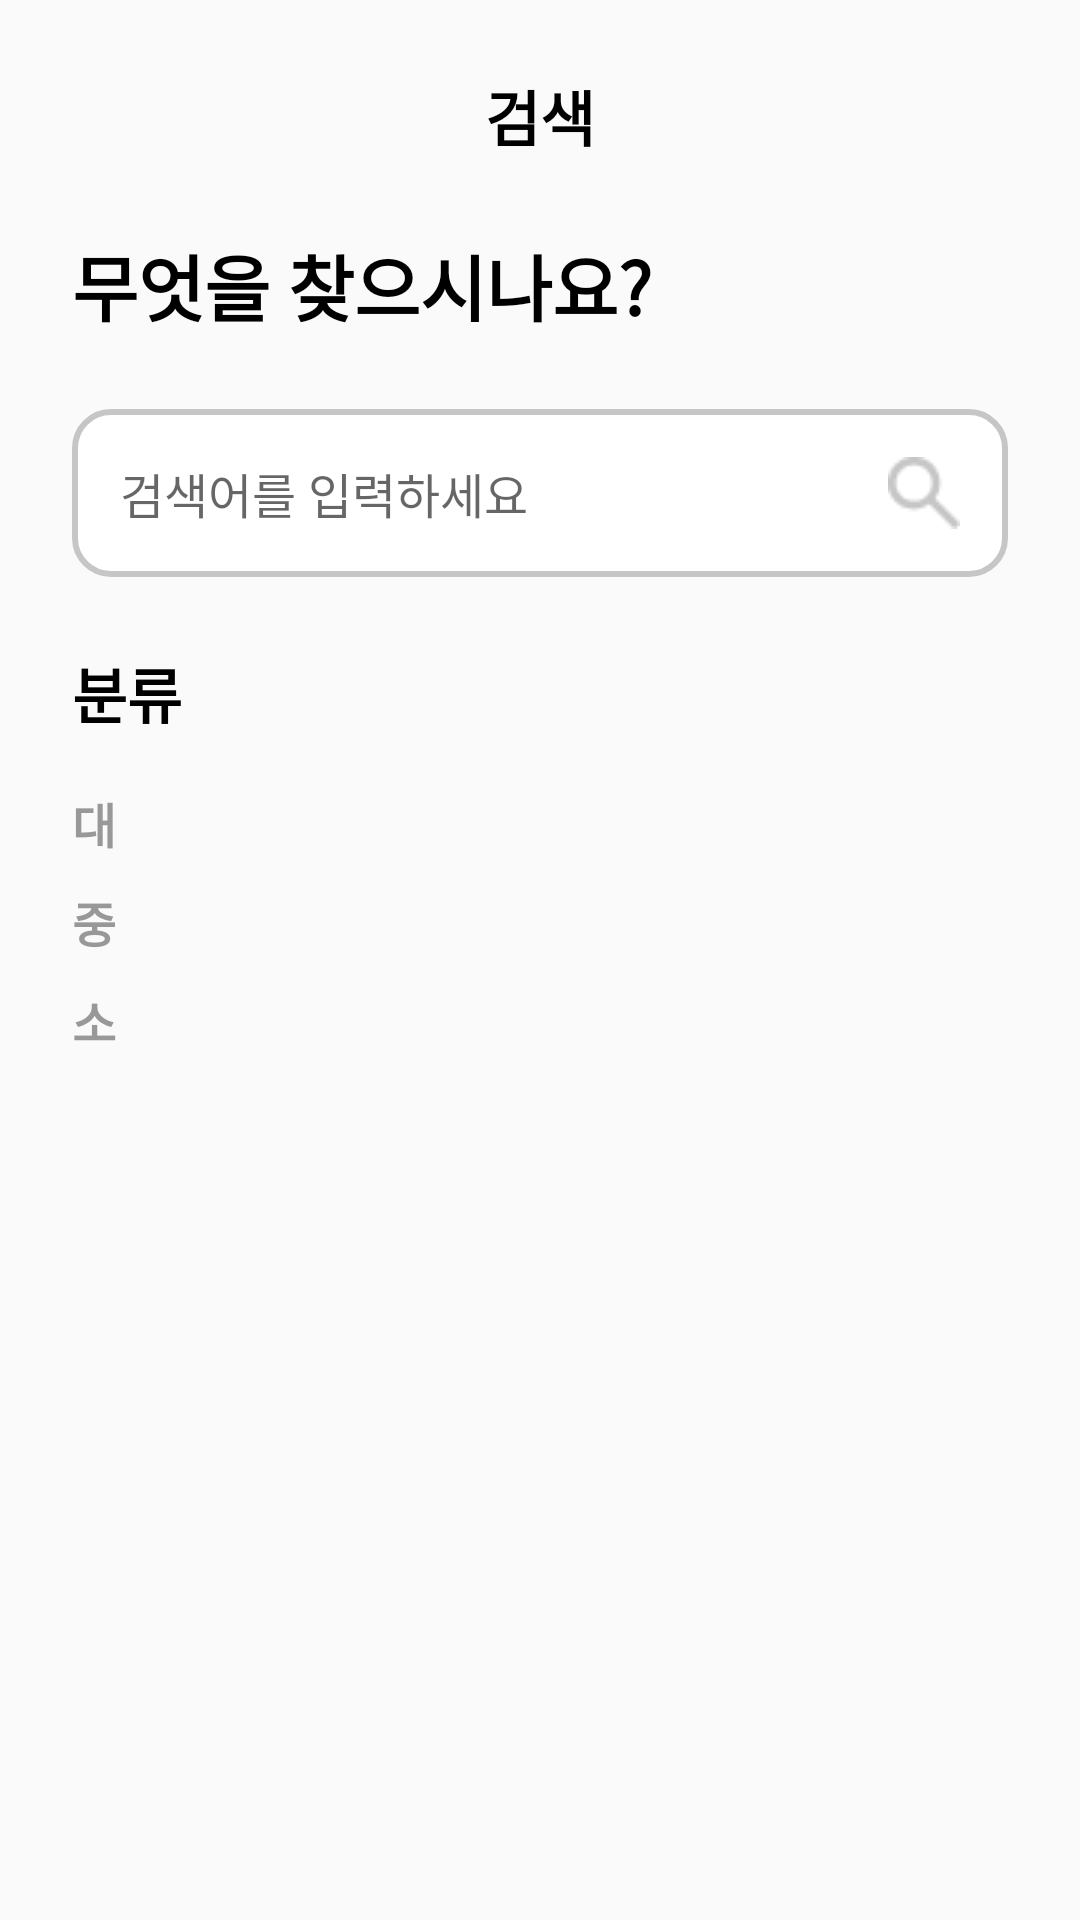

Where to tap for icons on this 1080px×1920px app screen, as [x,y]:
search: [924,493]
